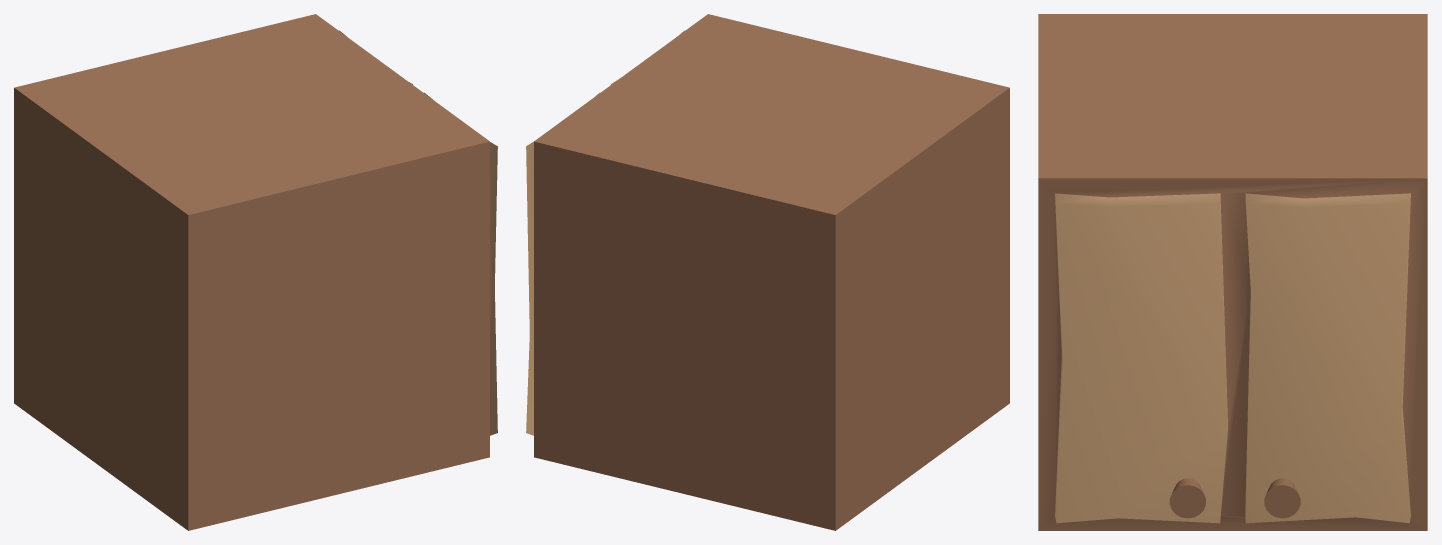
Rendered from Cabinet_Bottom_1.fbx.
The picture shows the model from 3 angles, left to right: view 1: azimuth 30°, elevation 25°; view 2: azimuth 150°, elevation 25°; view 3: azimuth 270°, elevation 25°; orthographic projection. The views are drawn at different scales.
Parts seen in each view (by area): view 1: pCube117; view 2: pCube117; view 3: pCube117, pCylinder4, pCylinder5.
Boxes of the visible parts, x1,y1,x2,y2 form: pCube117: (14, 14, 497, 530); pCube117: (526, 14, 1009, 530); pCube117: (1038, 14, 1427, 530); pCylinder4: (1264, 478, 1300, 518); pCylinder5: (1169, 478, 1205, 518).
Size of the model in its own units: 1123 by 1000 by 1000.
